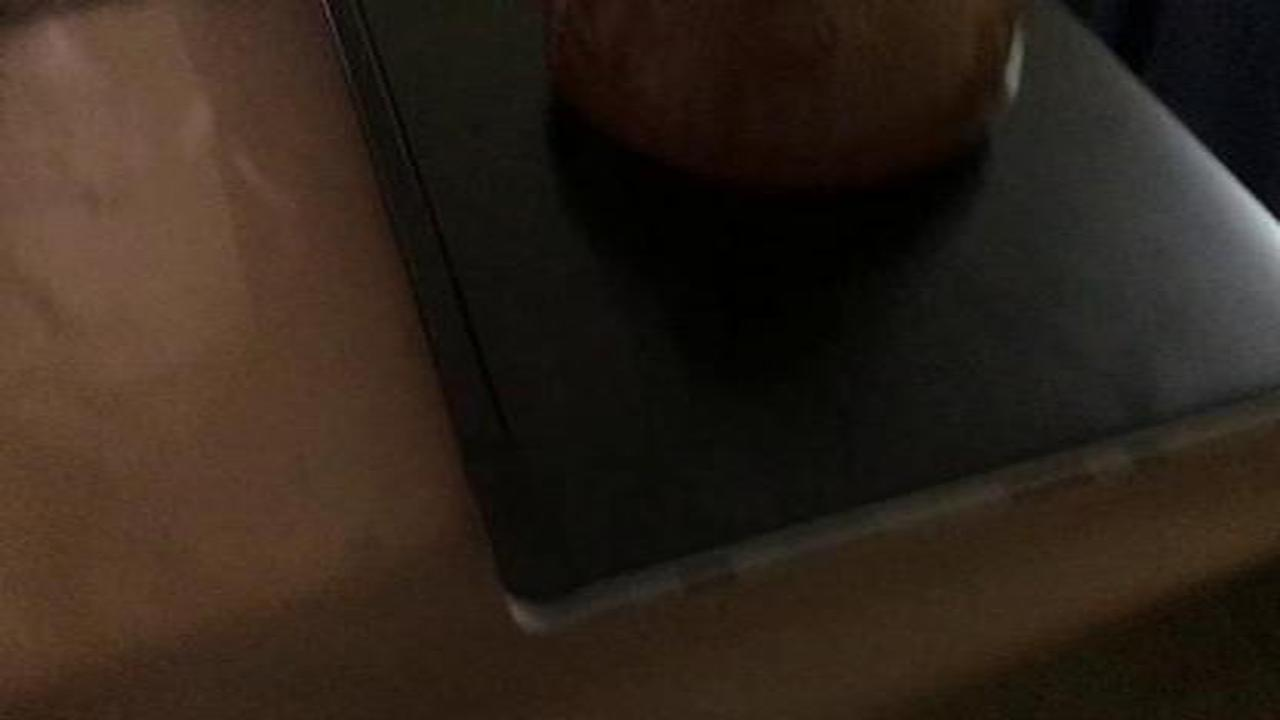insulator_pin: (530, 2, 1044, 182)
